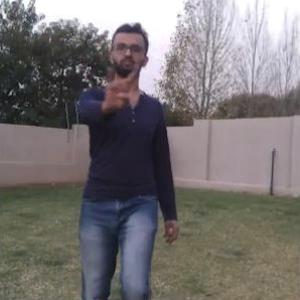takeoff-hand: (95, 57, 139, 113)
